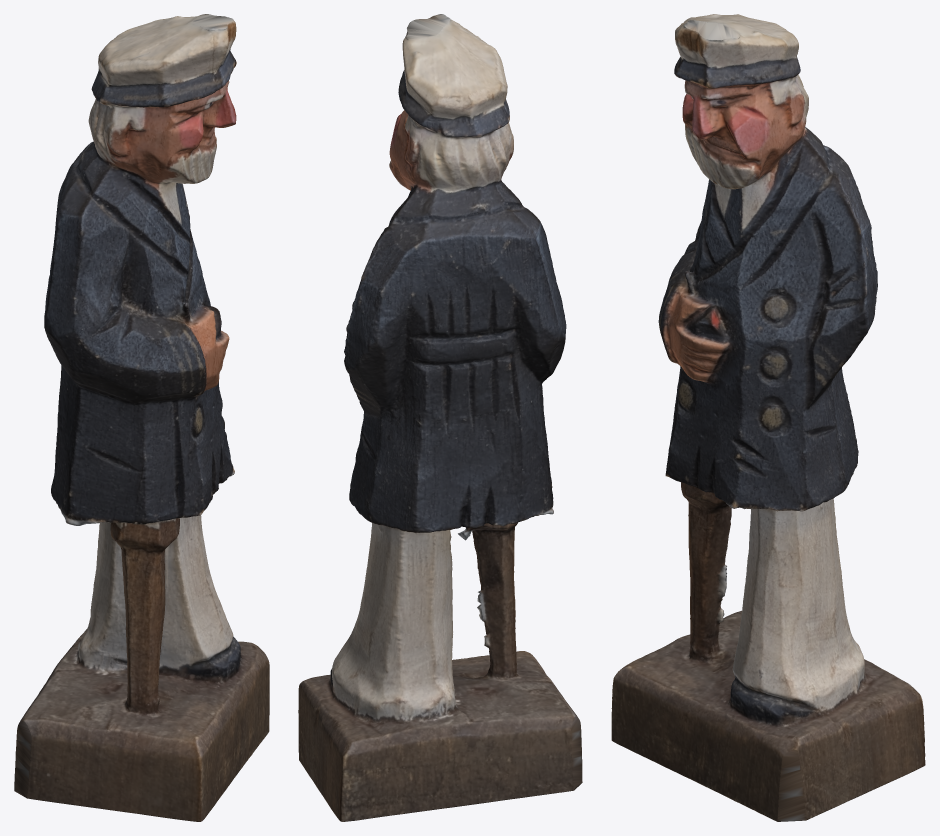
The model's file is marin.glb.
3 views of the same model, side by side, from view 1: azimuth 30°, elevation 25°; view 2: azimuth 150°, elevation 25°; view 3: azimuth 270°, elevation 25° (orthographic). The views are drawn at different scales.
Parts seen in each view (by area): view 1: Mesh_0_Part_0; view 2: Mesh_0_Part_0; view 3: Mesh_0_Part_0.
Part boxes in pixels (box(x1,y1,x2,y2)): Mesh_0_Part_0: box(14, 14, 269, 821); Mesh_0_Part_0: box(298, 14, 582, 821); Mesh_0_Part_0: box(611, 14, 925, 821).
Size of the model in its own units: 0.2649 by 0.7153 by 0.2707.
